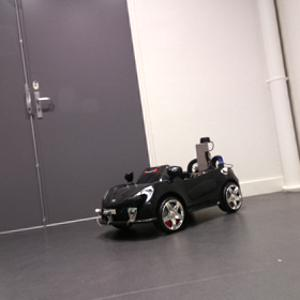big: (92, 156, 243, 239)
